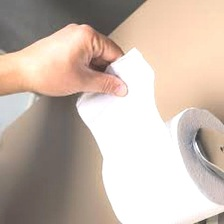tissue: (65, 43, 224, 224)
